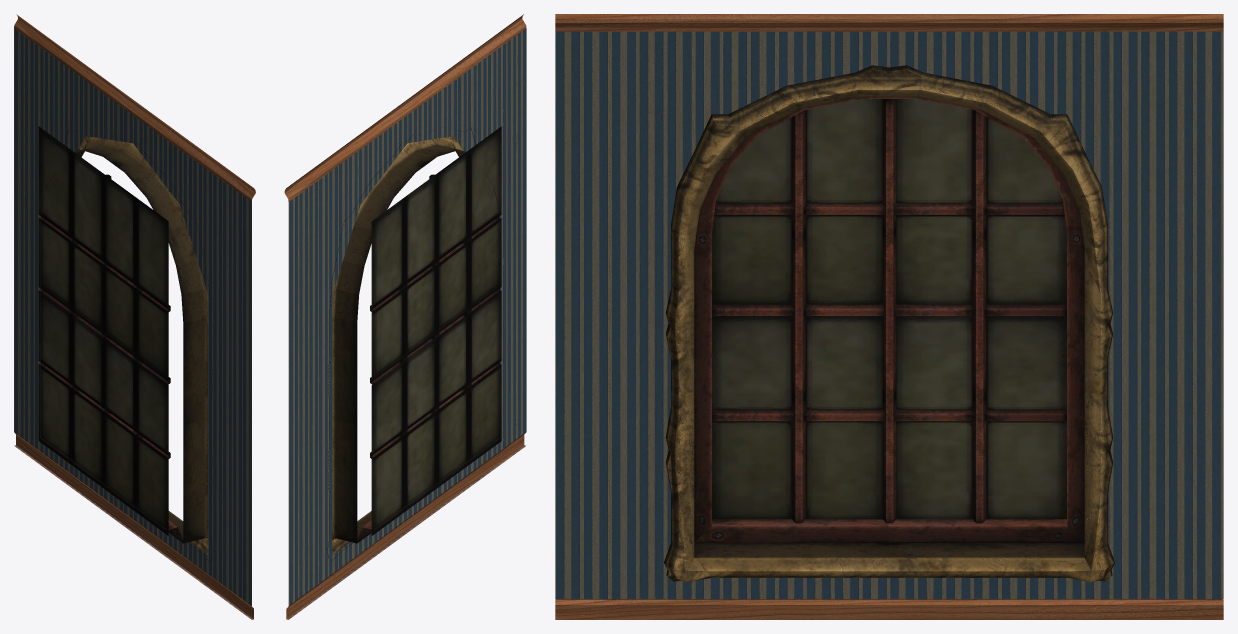
The model's file is blue_stripes_window.dae.
The picture shows the model from 3 angles, left to right: view 1: azimuth 30°, elevation 25°; view 2: azimuth 150°, elevation 25°; view 3: azimuth 270°, elevation 25°; orthographic projection. The views are drawn at different scales.
Visible parts, largest first — view 1: Plane_004, window02_large_glass_, window02_large_frame3; view 2: Plane_004, window02_large_glass_, window02_large_frame3; view 3: Plane_004, window02_large_glass_, window02_large_frame3.
Boxes of the visible parts, bbox=[...] form: Plane_004: bbox=[14, 14, 255, 619]; window02_large_glass_: bbox=[38, 126, 168, 535]; window02_large_frame3: bbox=[40, 127, 213, 561]; Plane_004: bbox=[284, 14, 526, 619]; window02_large_glass_: bbox=[371, 126, 501, 535]; window02_large_frame3: bbox=[327, 128, 500, 561]; Plane_004: bbox=[555, 14, 1223, 619]; window02_large_glass_: bbox=[712, 99, 1066, 519]; window02_large_frame3: bbox=[664, 65, 1114, 581].
Size of the model in its own units: 0.4034 by 4 by 4.
